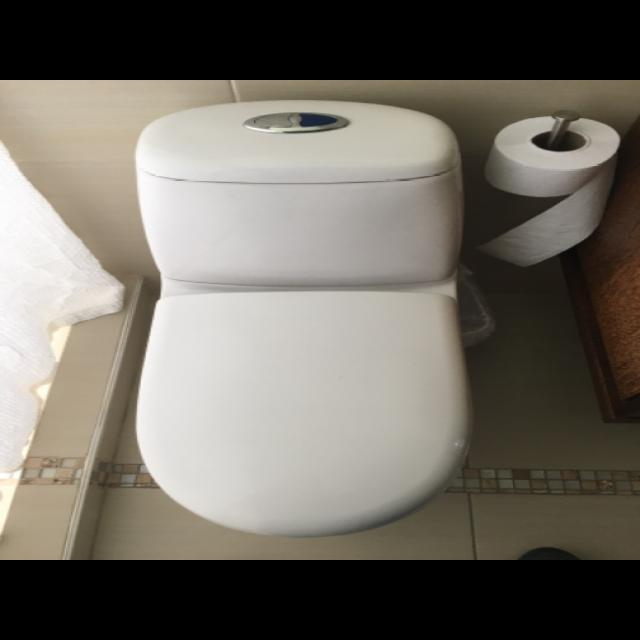toilet: (131, 99, 472, 537)
